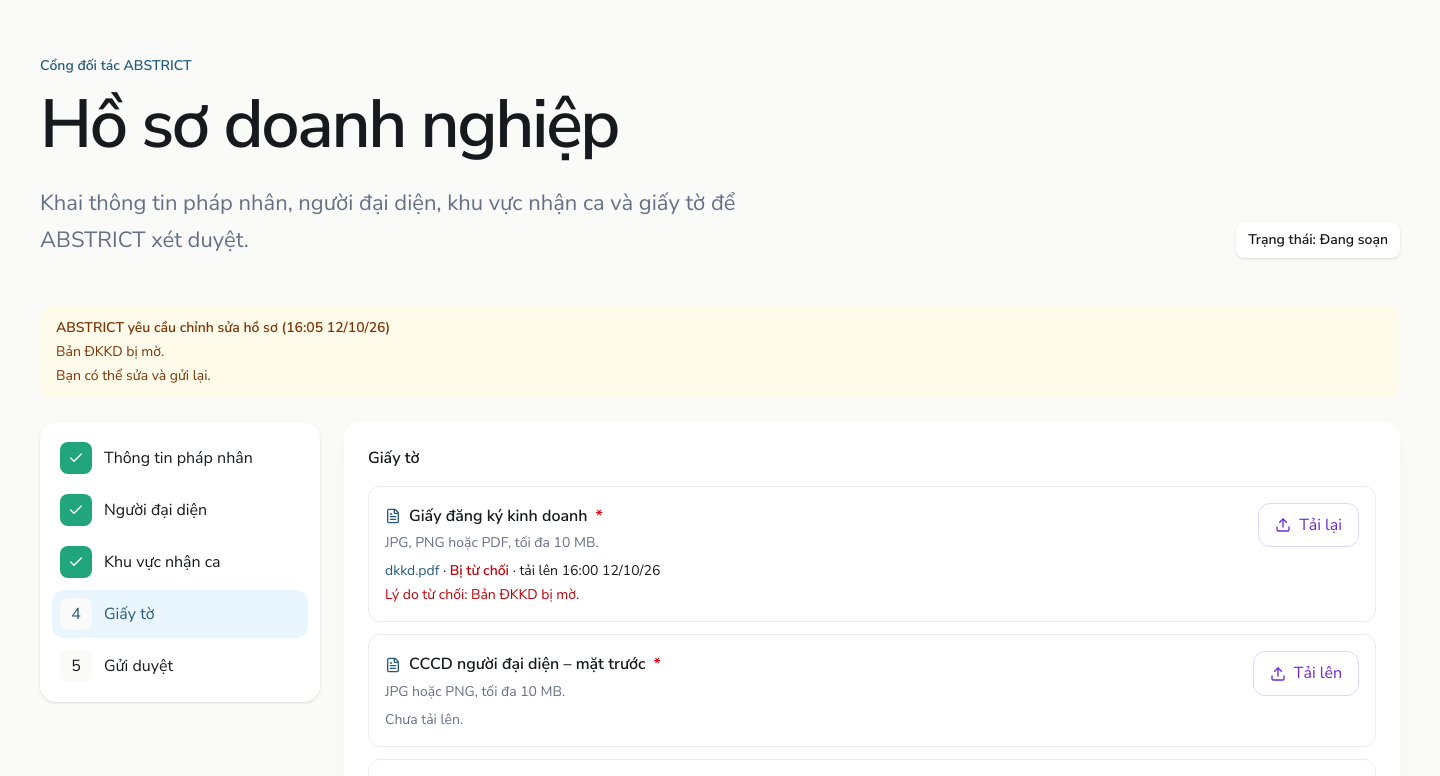
Test case: Company onboarding › shows admin feedback and the rejected document, and blocks submitting until it is replaced
Expected: the text "ABSTRICT yêu cầu chỉnh sửa hồ sơ (16:05 12/10/26)" is shown, [56,318,390,337]
Expected: the text "Lý do từ chối: Bản ĐKKD bị mờ." is shown, [385,585,579,604]
Click the button "5 Gửi duyệt". click: (180,666)
box: [52,642,308,690]
(page scrolled)
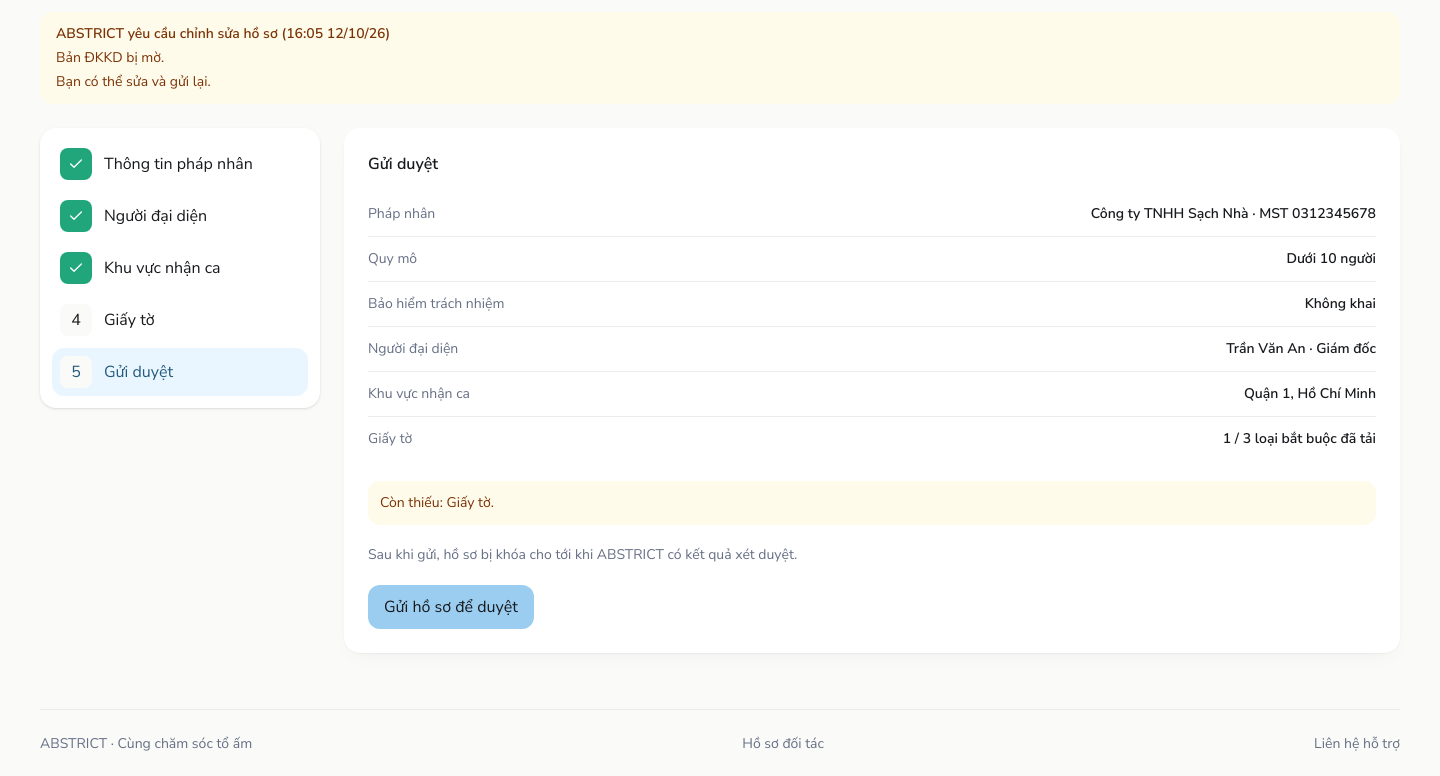
Result: the button "Gửi hồ sơ để duyệt" is disabled at [368,585,534,629]
